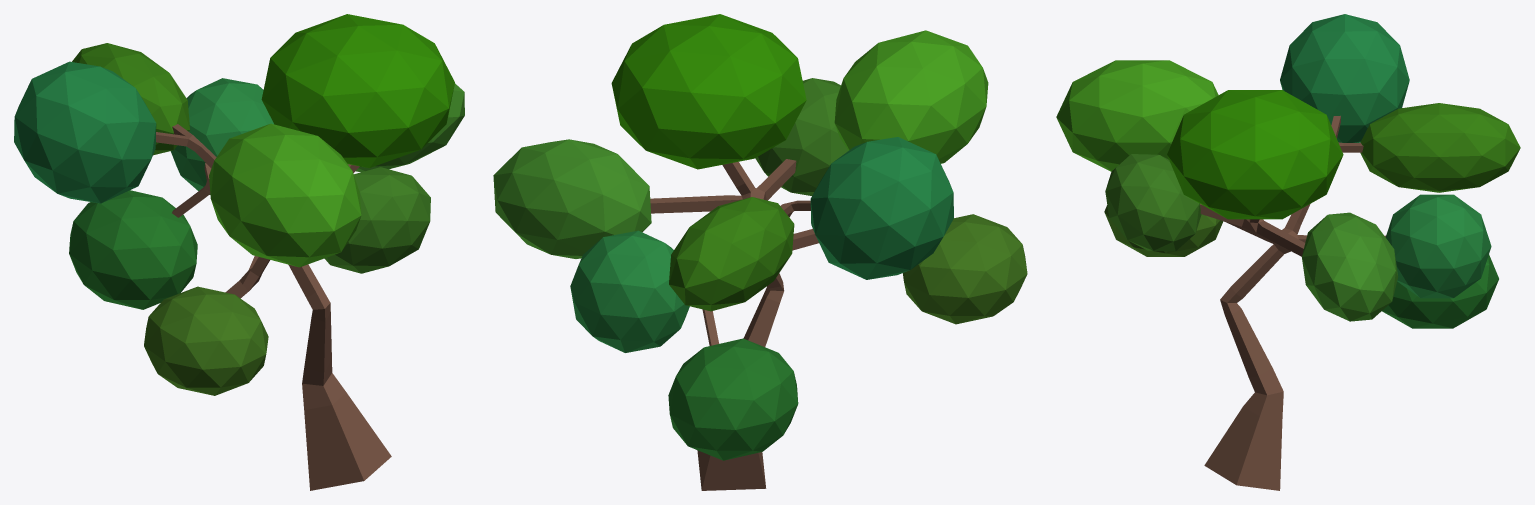
File: Tree_attempt_fbx.fbx
3 renders of one model, left to right at view 1: azimuth 30°, elevation 25°; view 2: azimuth 150°, elevation 25°; view 3: azimuth 270°, elevation 25°, orthographic. The views are drawn at different scales.
Parts seen in each view (by area): view 1: Icosphere.007, Icosphere.002, Icosphere.003, Icosphere.005, Cube, Icosphere, Icosphere.001, Icosphere.006, Icosphere.004, Icosphere.008; view 2: Icosphere.007, Icosphere.003, Icosphere.002, Icosphere.008, Icosphere.005, Icosphere.006, Icosphere.004, Icosphere, Cube, Icosphere.001; view 3: Icosphere.007, Icosphere.002, Icosphere.003, Icosphere.004, Cube, Icosphere.006, Icosphere.008, Icosphere.001, Icosphere.005, Icosphere.
Boxes of the visible parts, bbox=[...] form: Icosphere.007: bbox=[261, 14, 454, 168]; Icosphere.002: bbox=[209, 123, 361, 267]; Icosphere.003: bbox=[14, 61, 156, 203]; Icosphere.005: bbox=[69, 190, 197, 309]; Cube: bbox=[156, 124, 391, 490]; Icosphere: bbox=[144, 286, 268, 395]; Icosphere.001: bbox=[324, 167, 430, 273]; Icosphere.006: bbox=[170, 78, 273, 194]; Icosphere.004: bbox=[72, 43, 189, 155]; Icosphere.008: bbox=[356, 83, 464, 172]; Icosphere.007: bbox=[611, 14, 806, 169]; Icosphere.003: bbox=[810, 137, 953, 279]; Icosphere.002: bbox=[834, 30, 988, 163]; Icosphere.008: bbox=[493, 139, 651, 258]; Icosphere.005: bbox=[668, 338, 798, 460]; Icosphere.006: bbox=[570, 230, 689, 352]; Icosphere.004: bbox=[669, 197, 794, 311]; Icosphere: bbox=[903, 214, 1027, 324]; Cube: bbox=[650, 159, 818, 490]; Icosphere.001: bbox=[755, 78, 848, 195]; Icosphere.007: bbox=[1167, 90, 1343, 219]; Icosphere.002: bbox=[1056, 60, 1218, 171]; Icosphere.003: bbox=[1280, 14, 1409, 142]; Icosphere.004: bbox=[1360, 103, 1520, 192]; Cube: bbox=[1200, 115, 1385, 490]; Icosphere.006: bbox=[1385, 194, 1491, 298]; Icosphere.008: bbox=[1302, 212, 1398, 321]; Icosphere.001: bbox=[1105, 154, 1201, 251]; Icosphere.005: bbox=[1382, 254, 1498, 328]; Icosphere: bbox=[1104, 205, 1223, 256].
Bounding box in the file's own units: 1561 × 1530 × 1624.
